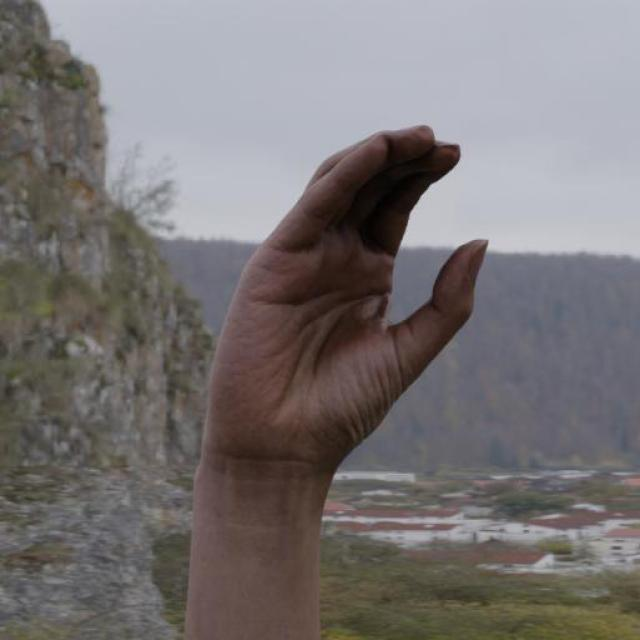C: (202, 122, 495, 457)
